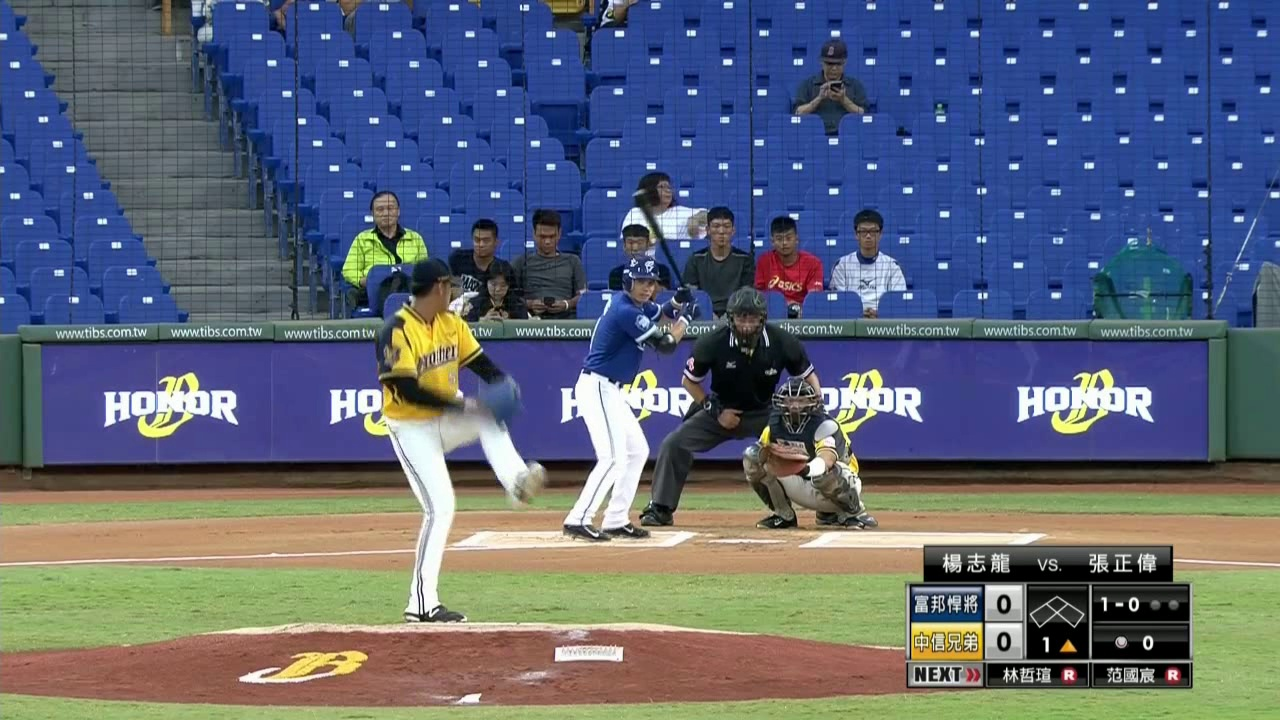base: (1029, 594, 1085, 629)
bat: (632, 185, 687, 288)
out: (1149, 597, 1181, 612)
score1: (985, 584, 1022, 620)
score2: (985, 623, 1022, 658)
session: (1036, 634, 1079, 655)
strikeball: (1096, 594, 1142, 613)
total: (1107, 631, 1162, 653)
